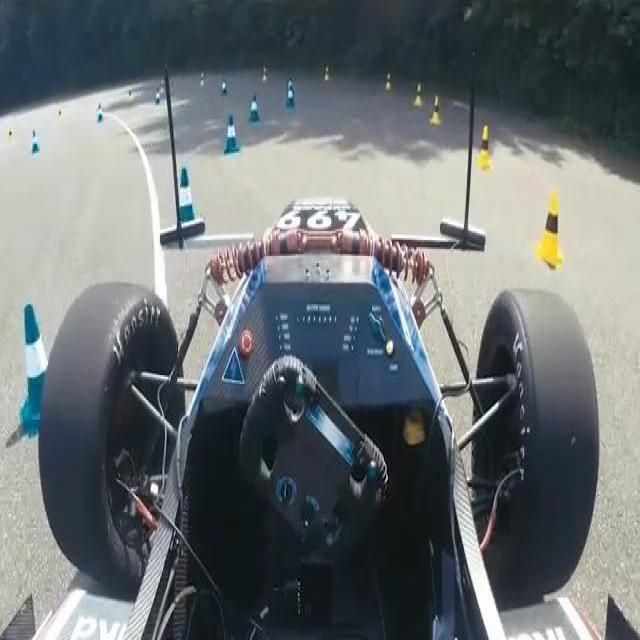blue_cone: (20, 304, 62, 440), (174, 167, 199, 233), (223, 114, 240, 155), (249, 94, 261, 124), (285, 83, 295, 108), (31, 130, 40, 155)
yellow_cone: (534, 190, 563, 268), (475, 124, 493, 170), (430, 96, 444, 126), (414, 84, 424, 107)
